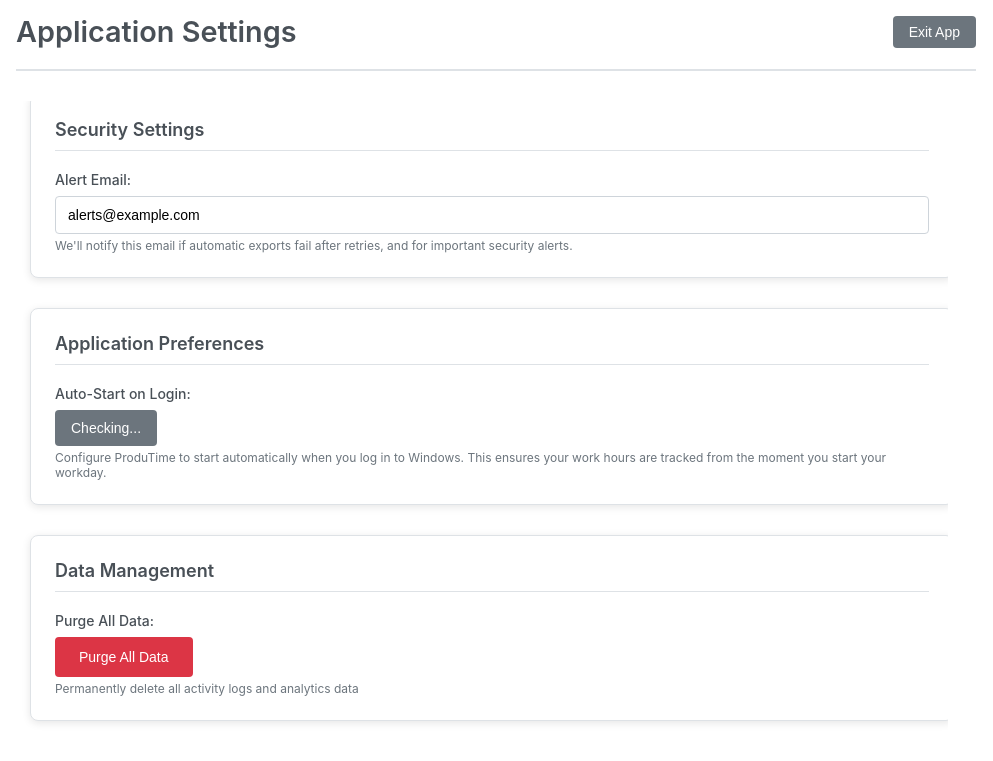
Test: purge all data error path surfaces error banner (RED)
(page scrolled)
Expected: the heading "Data Management" is shown, x1=55 y1=560 x2=929 y2=592
Click the button "Purge All Data" at {"x": 124, "y": 657}, box x1=55 y1=637 x2=192 y2=677
Wait 100 ms
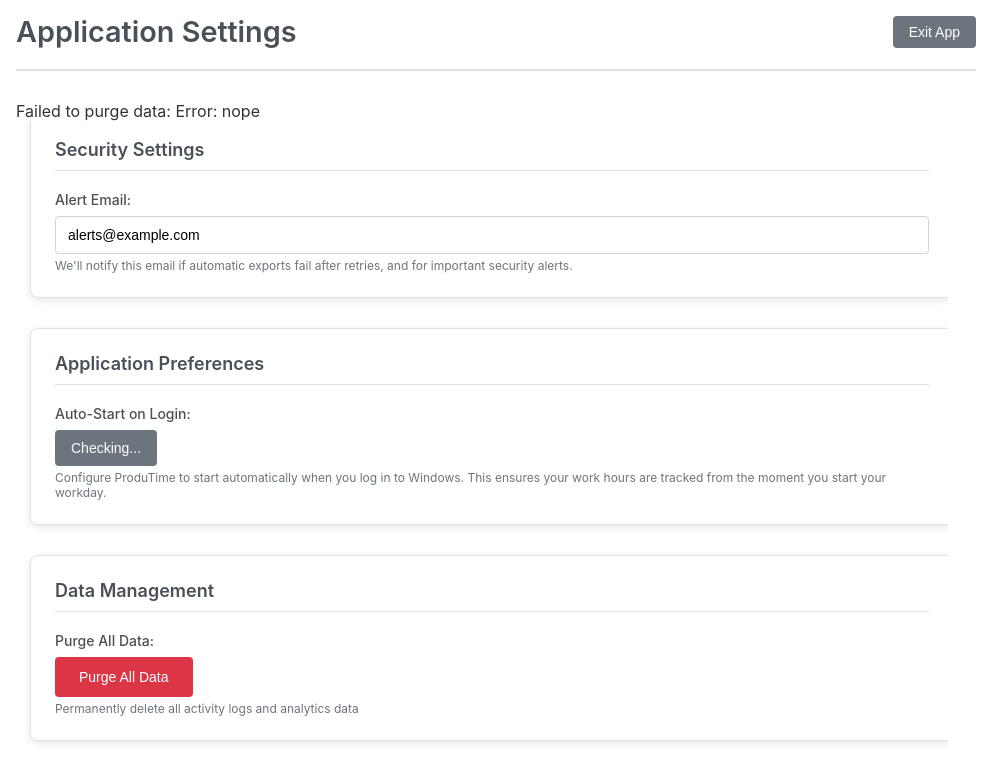
Now the text "Failed to purge data: Error: nope" is shown, box x1=16 y1=101 x2=260 y2=121
